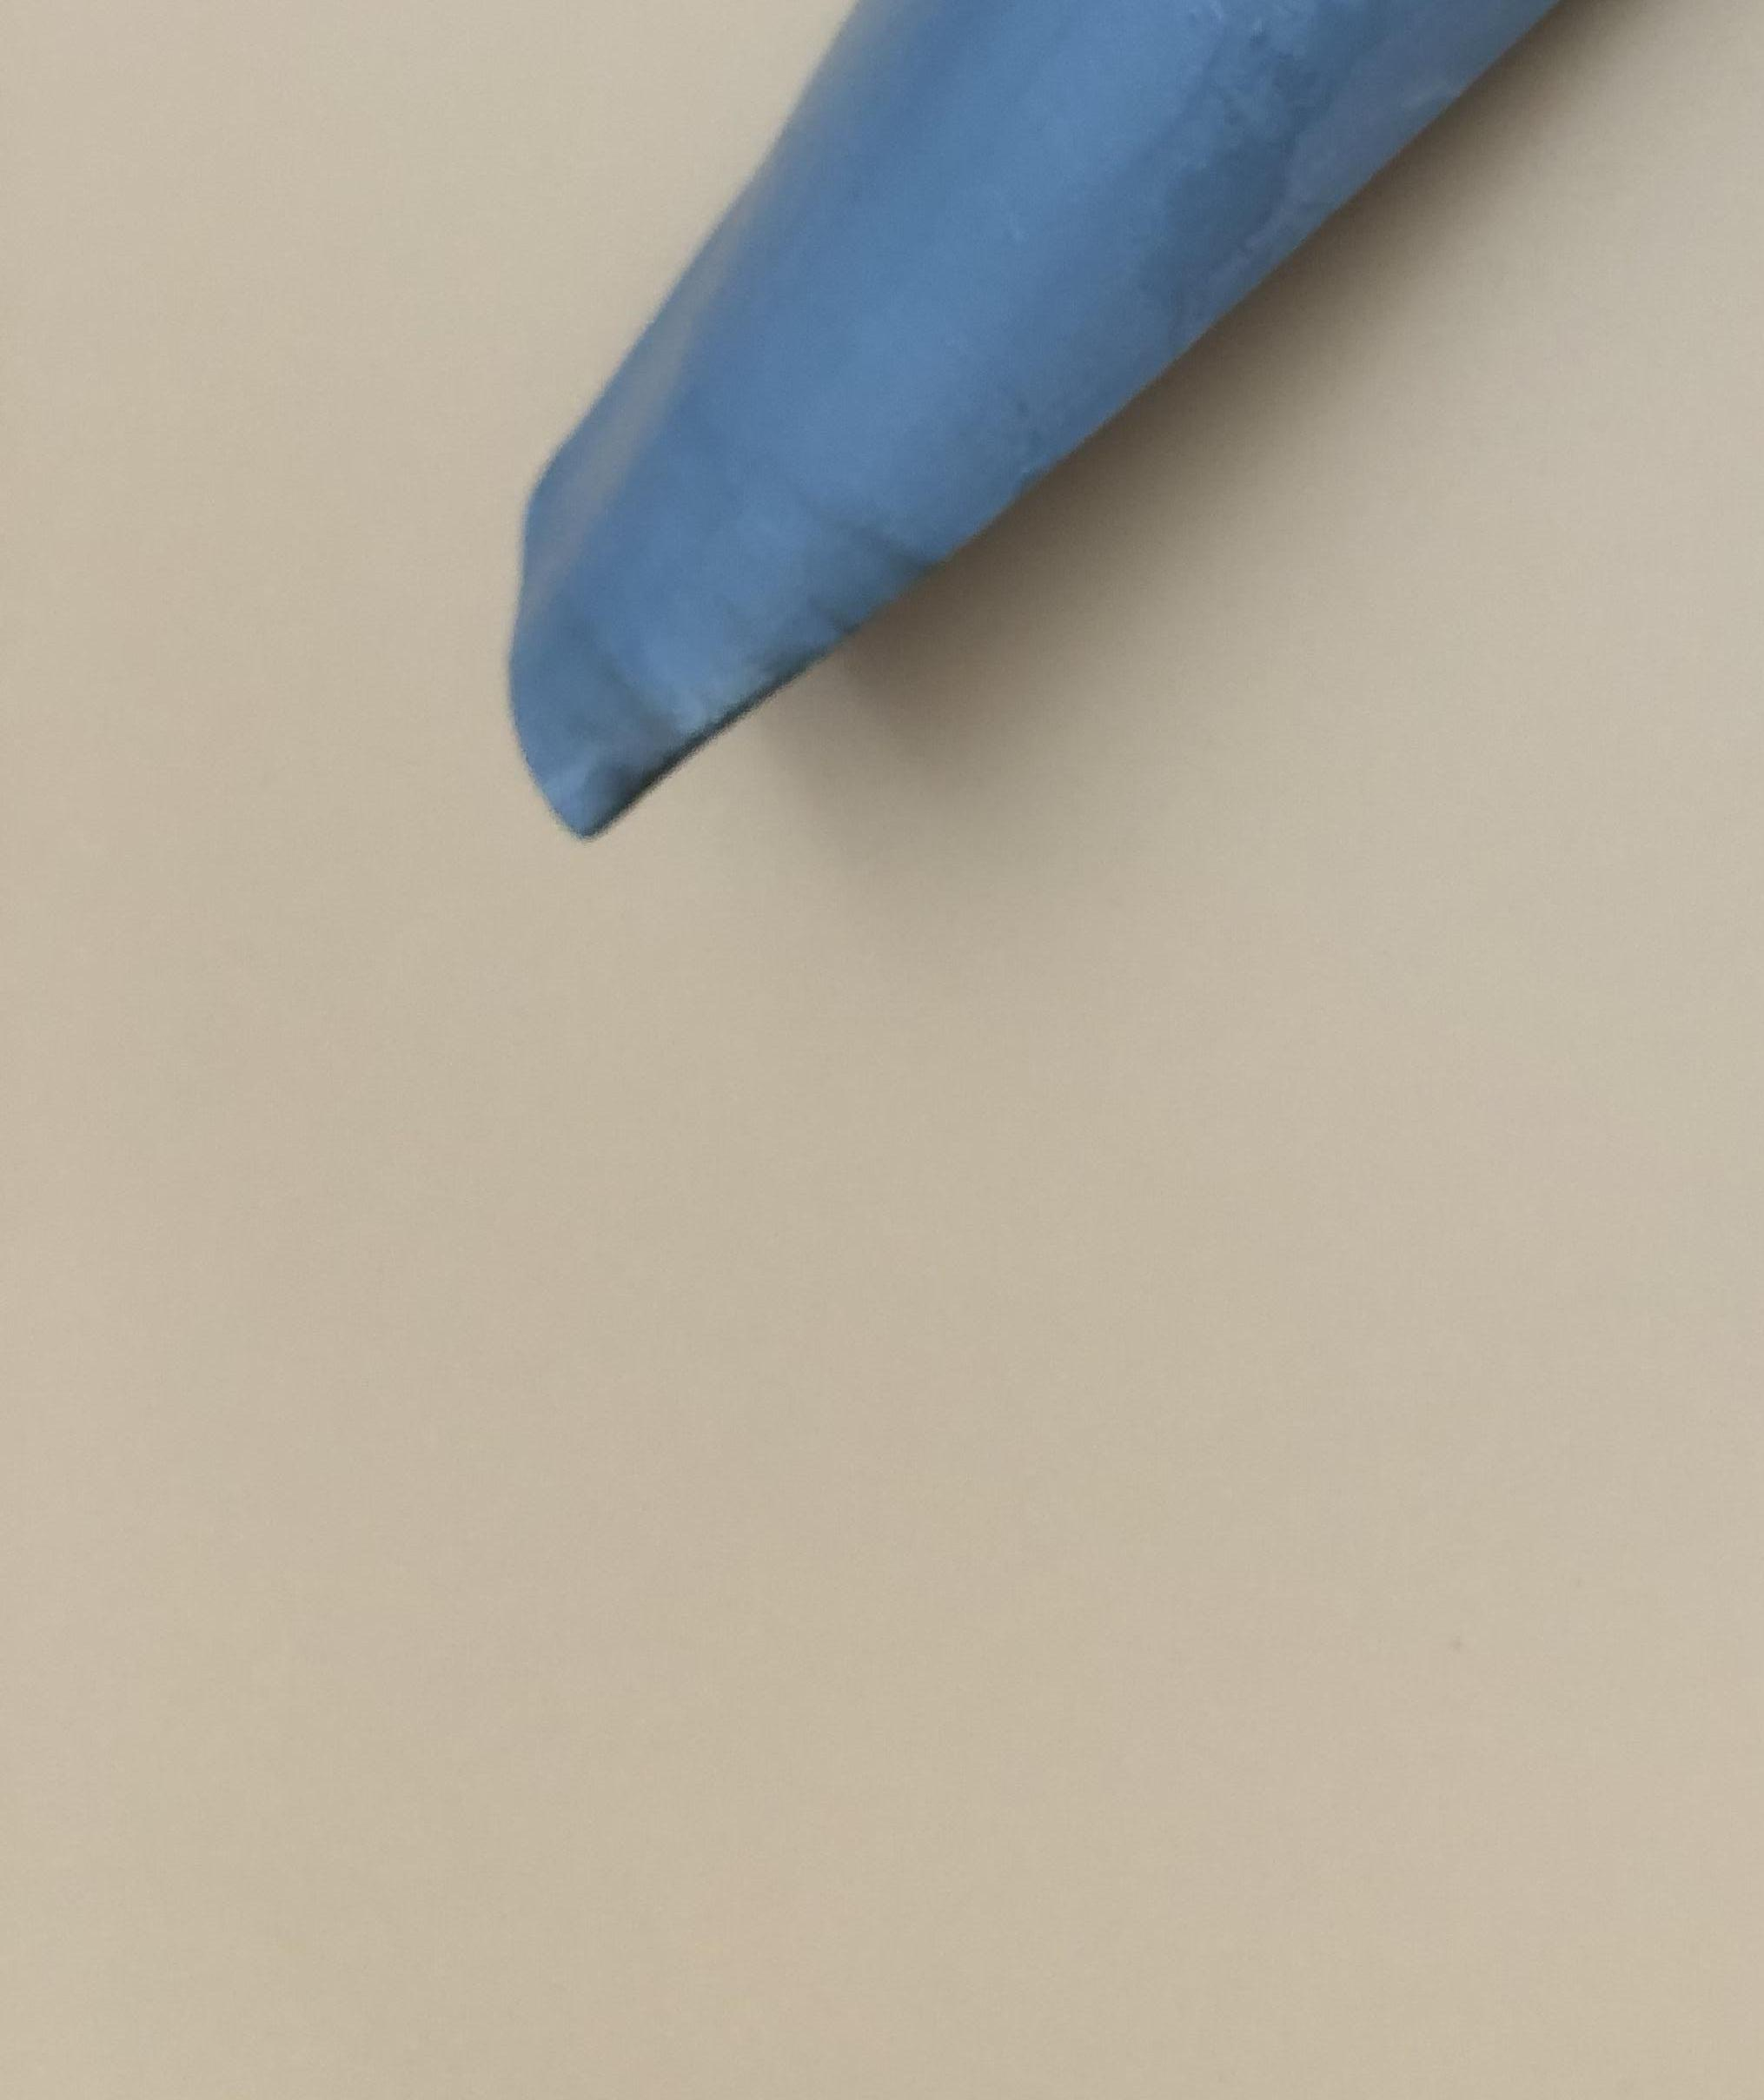ablation: (588, 656, 815, 821)
